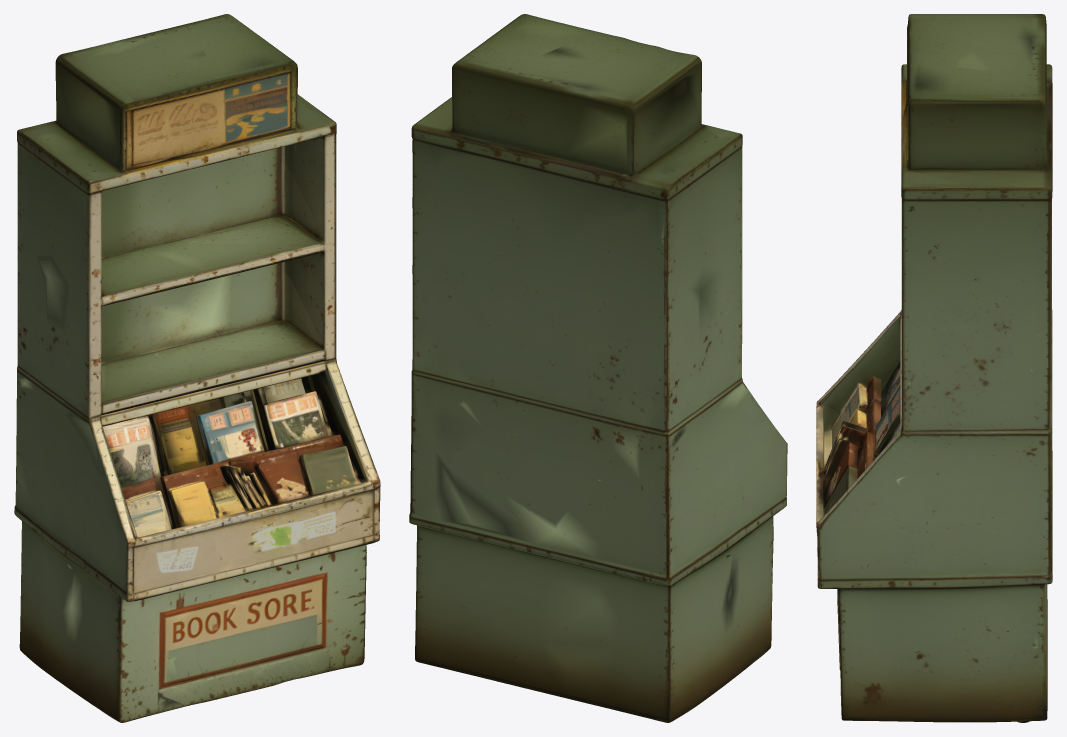
The model's file is rack.glb.
The picture shows the model from 3 angles, left to right: view 1: azimuth 30°, elevation 25°; view 2: azimuth 150°, elevation 25°; view 3: azimuth 270°, elevation 25°; orthographic projection. The views are drawn at different scales.
Visible parts, largest first — view 1: node_0; view 2: node_0; view 3: node_0.
Part boxes in pixels (left/top/right/bottom): node_0: left=14, top=14, right=380, bottom=722; node_0: left=409, top=14, right=787, bottom=722; node_0: left=816, top=14, right=1052, bottom=722.
Bounding box in the file's own units: 0.4847 × 1.07 × 0.3766.
1 material, 1 textured.
